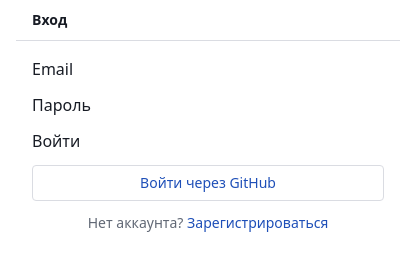
Test: LoginPage › rejects a malformed email
Type "not-an-email" into the field labelled "Email".
click(189, 69); type("not-an-email")  # box [73,57,304,81]
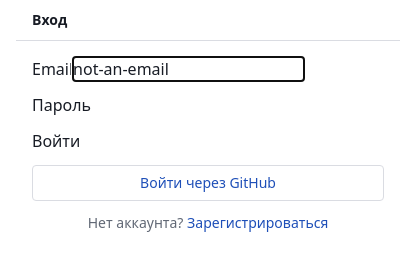
Type "secret1" into the password field labelled "Пароль".
click(206, 105); type("secret1")  # box [91,93,322,117]
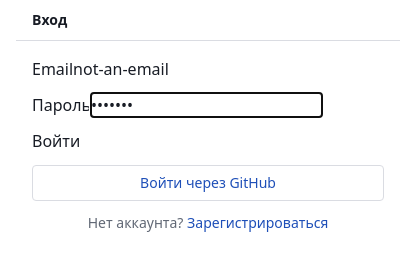
Click the button "Войти".
click(56, 141)  # box [32,129,80,153]
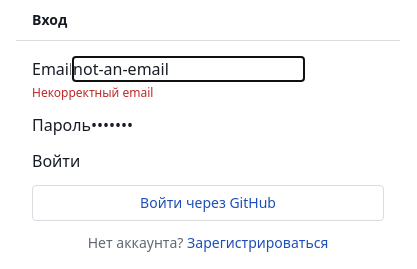
Check: the text "Некорректный email" is shown, box [32,84,153,101]
